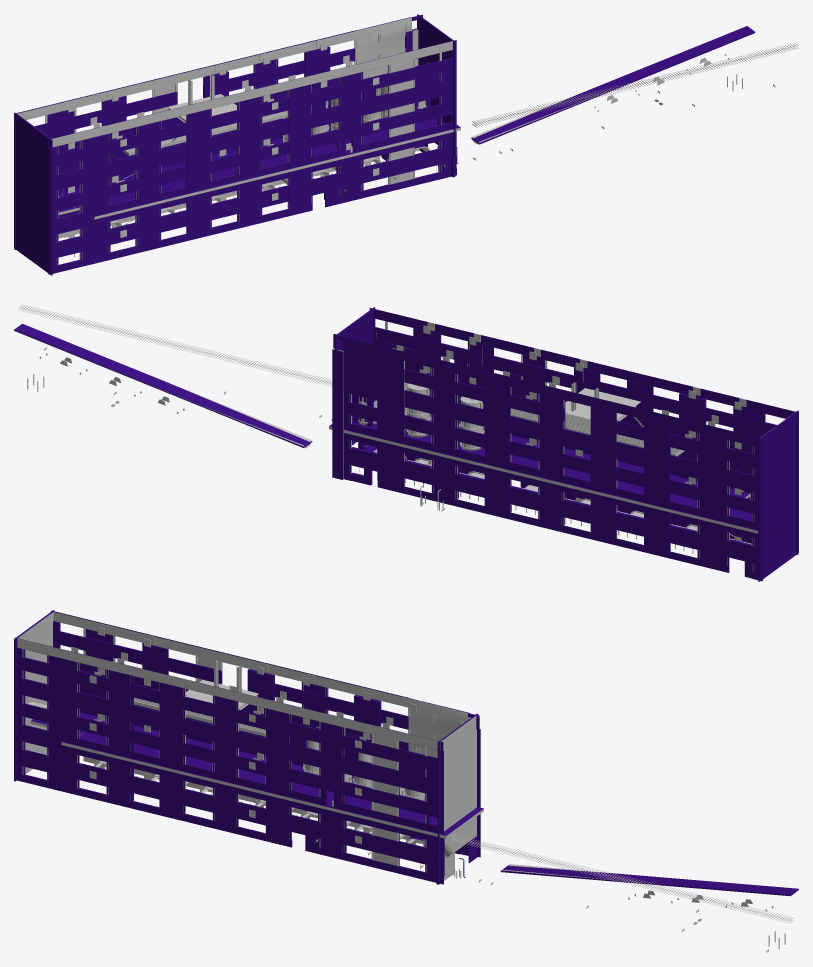
Rendered from inner.DAE.
3 views of the same model, one above another, from view 1: azimuth 30°, elevation 25°; view 2: azimuth 150°, elevation 25°; view 3: azimuth 330°, elevation 25° (orthographic). The views are drawn at different scales.
Visible parts, largest first — view 1: P123_, P123-ch028, P123-ch033, P123-ch036, P123-ch043, P123-ch034, P123-ch032, P123-ch040, P215-ch001, P123-ch038, P123-ch039, P123-ch041 (+18 smaller); view 2: P123-ch028, P123-ch006, P123-ch032, P123-ch003, P123-ch005, P123-ch016, P123-ch004, P123-ch029, P123-ch001, P123-ch007, P123-ch020, P123-ch018 (+20 smaller); view 3: P123_, P123-ch033, P123-ch036, P123-ch043, P123-ch034, P123-ch032, P123-ch040, P123-ch039, P123-ch038, P123-ch041, P271-ch001, P123-ch035 (+16 smaller).
Part boxes in pixels (left/top/right/bottom): P123_: left=17, top=17, right=452, bottom=238; P123-ch028: left=14, top=113, right=52, bottom=275; P123-ch033: left=48, top=77, right=456, bottom=191; P123-ch036: left=48, top=148, right=439, bottom=259; P123-ch043: left=80, top=133, right=110, bottom=259; P123-ch034: left=48, top=101, right=456, bottom=212; P123-ch032: left=48, top=57, right=456, bottom=168; P123-ch040: left=186, top=108, right=211, bottom=234; P215-ch001: left=471, top=26, right=755, bottom=144; P123-ch038: left=288, top=84, right=312, bottom=209; P123-ch039: left=237, top=96, right=261, bottom=221; P123-ch041: left=137, top=121, right=161, bottom=246; P123-ch028: left=758, top=410, right=798, bottom=581; P123-ch006: left=351, top=447, right=752, bottom=562; P123-ch032: left=374, top=327, right=798, bottom=443; P123-ch003: left=404, top=390, right=752, bottom=491; P123-ch005: left=351, top=422, right=752, bottom=538; P123-ch016: left=697, top=432, right=728, bottom=565; P123-ch004: left=351, top=402, right=752, bottom=513; P123-ch029: left=369, top=308, right=798, bottom=421; P123-ch001: left=404, top=351, right=761, bottom=447; P123-ch007: left=343, top=337, right=403, bottom=406; P123-ch020: left=484, top=380, right=511, bottom=512; P123-ch018: left=590, top=406, right=616, bottom=538; P123_: left=17, top=612, right=476, bottom=880; P123-ch033: left=24, top=679, right=443, bottom=797; P123-ch036: left=24, top=749, right=443, bottom=868; P123-ch043: left=47, top=655, right=79, bottom=788; P123-ch034: left=24, top=703, right=443, bottom=818; P123-ch032: left=24, top=657, right=443, bottom=772; P123-ch040: left=159, top=682, right=185, bottom=814; P123-ch039: left=212, top=695, right=238, bottom=827; P123-ch038: left=266, top=708, right=291, bottom=840; P123-ch041: left=107, top=669, right=132, bottom=801; P271-ch001: left=31, top=712, right=483, bottom=835; P123-ch035: left=24, top=725, right=326, bottom=813.
Size of what is drawn, in the model's own units: 1133 by 135 by 198.
